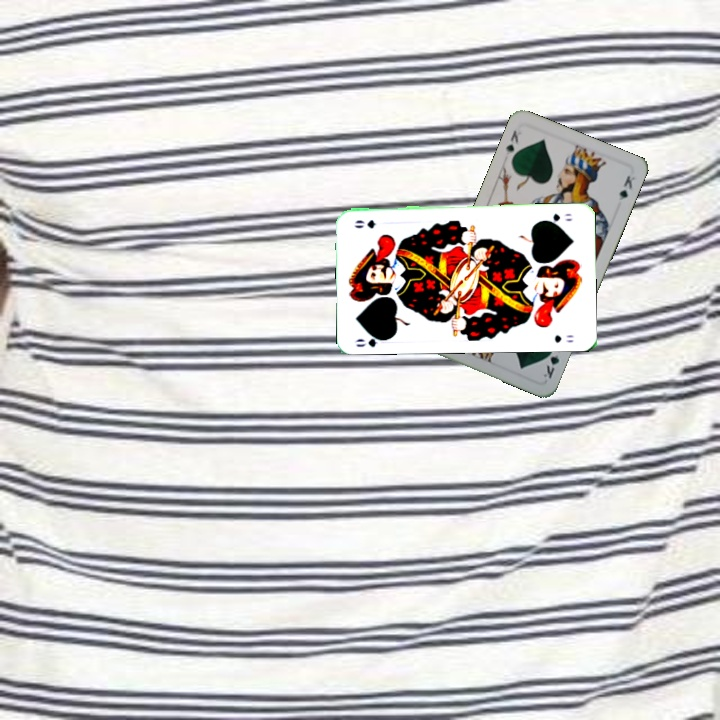GK: (539, 342, 562, 381), (502, 126, 524, 158)
GO: (351, 330, 392, 350), (538, 209, 575, 226)
